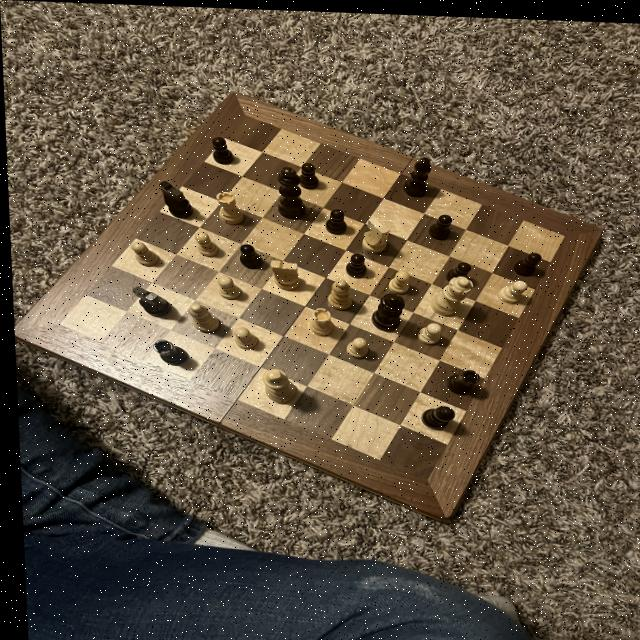bishop: (395, 151, 436, 199), (413, 398, 455, 429)
black-bishop: (269, 163, 310, 222)
black-king: (125, 280, 173, 319), (154, 178, 195, 220)
black-knight: (423, 207, 457, 239), (508, 247, 544, 274), (235, 240, 265, 271), (295, 157, 323, 190), (340, 248, 369, 279), (321, 203, 349, 235), (208, 134, 235, 166), (441, 255, 471, 283)
black-pawn: (366, 288, 407, 333)
black-queen: (147, 337, 192, 368), (440, 363, 481, 396)
black-rook: (320, 274, 357, 311), (184, 302, 222, 335)
white-bishop: (256, 364, 299, 404)
white-king: (355, 212, 395, 256), (265, 255, 303, 292)
white-knight: (123, 238, 162, 268), (492, 274, 530, 303), (411, 317, 448, 346), (227, 324, 263, 352), (190, 228, 220, 260), (212, 271, 241, 303), (340, 331, 371, 359), (383, 265, 411, 294)
white-pawn: (424, 270, 476, 314)
white-queen: (211, 187, 247, 225), (304, 302, 335, 337)
